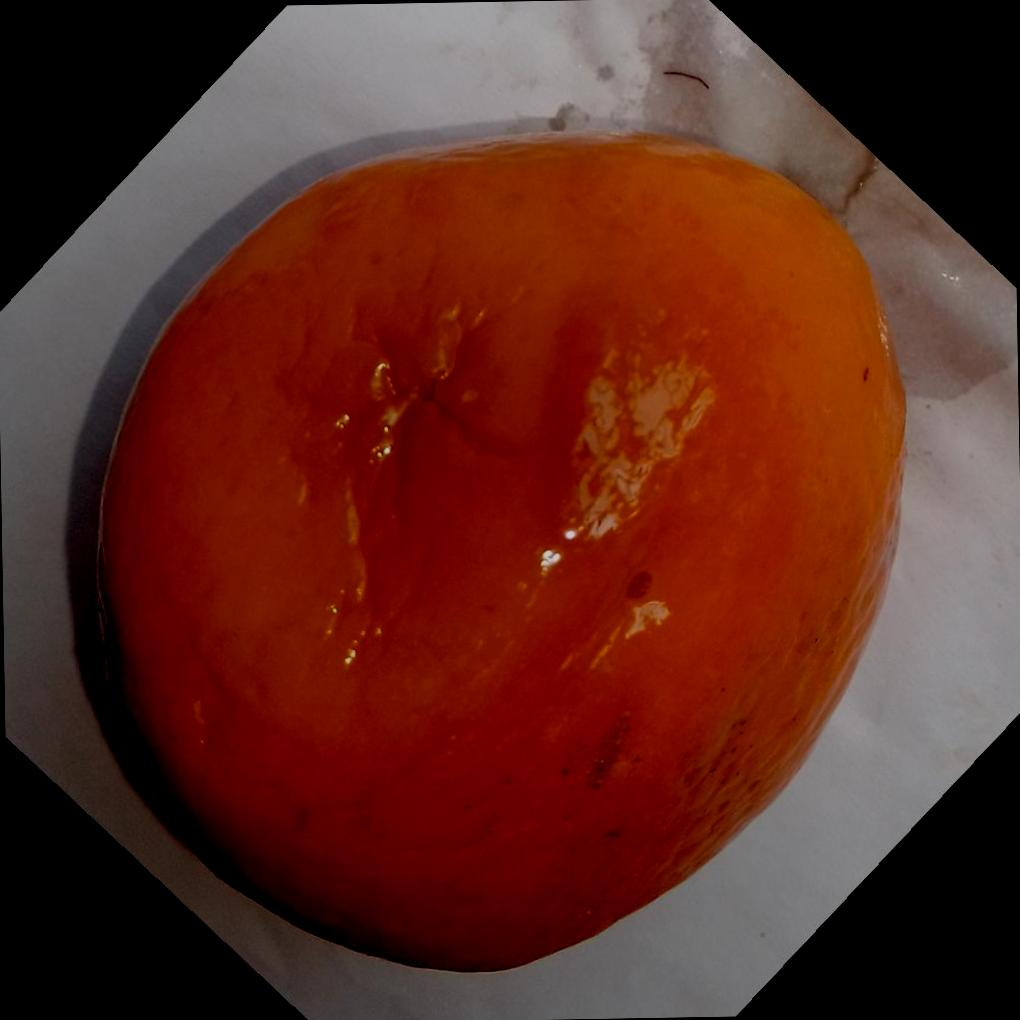FreshOrange: (94, 124, 910, 972)
